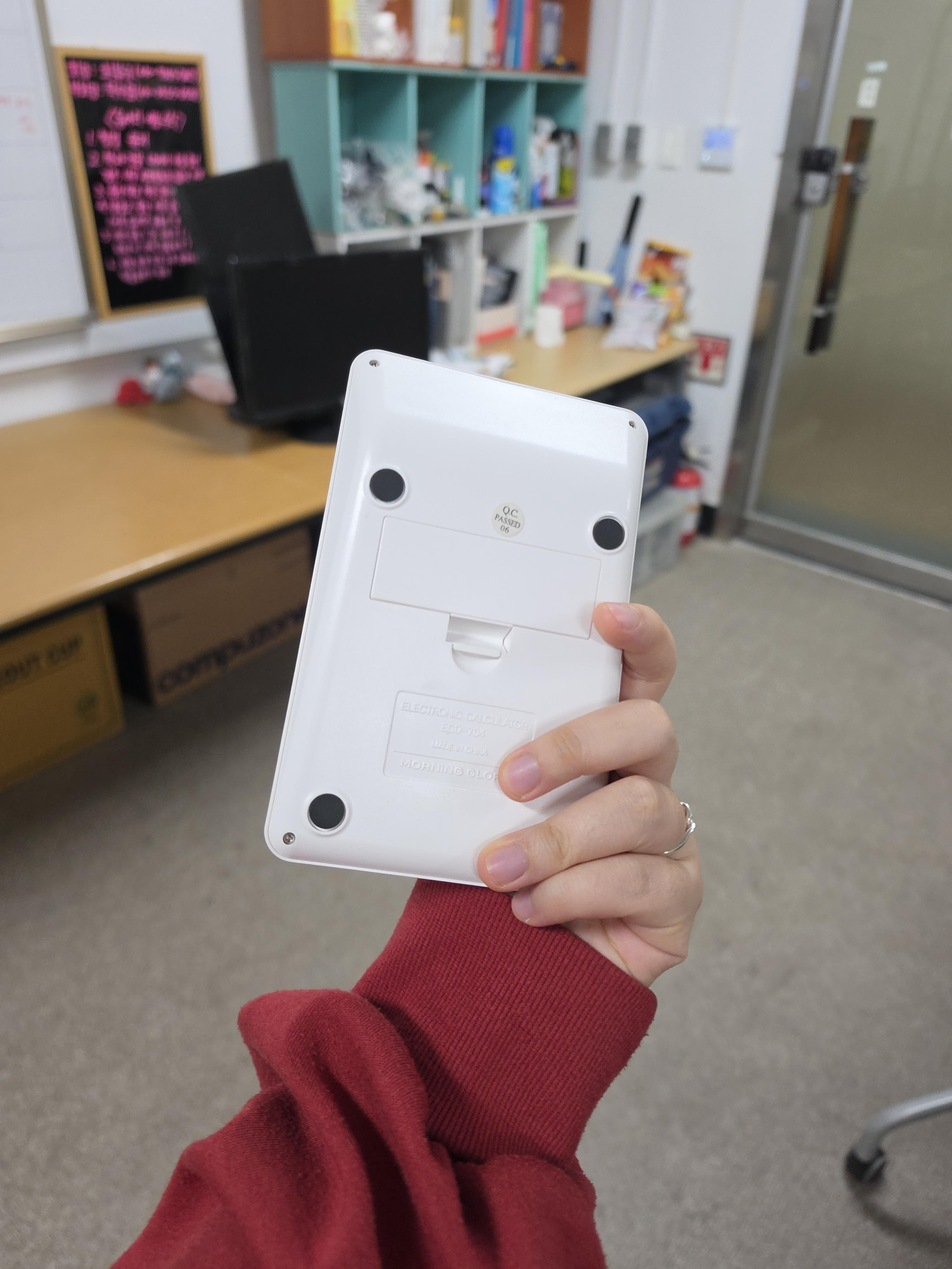calculator: (264, 349, 648, 889)
